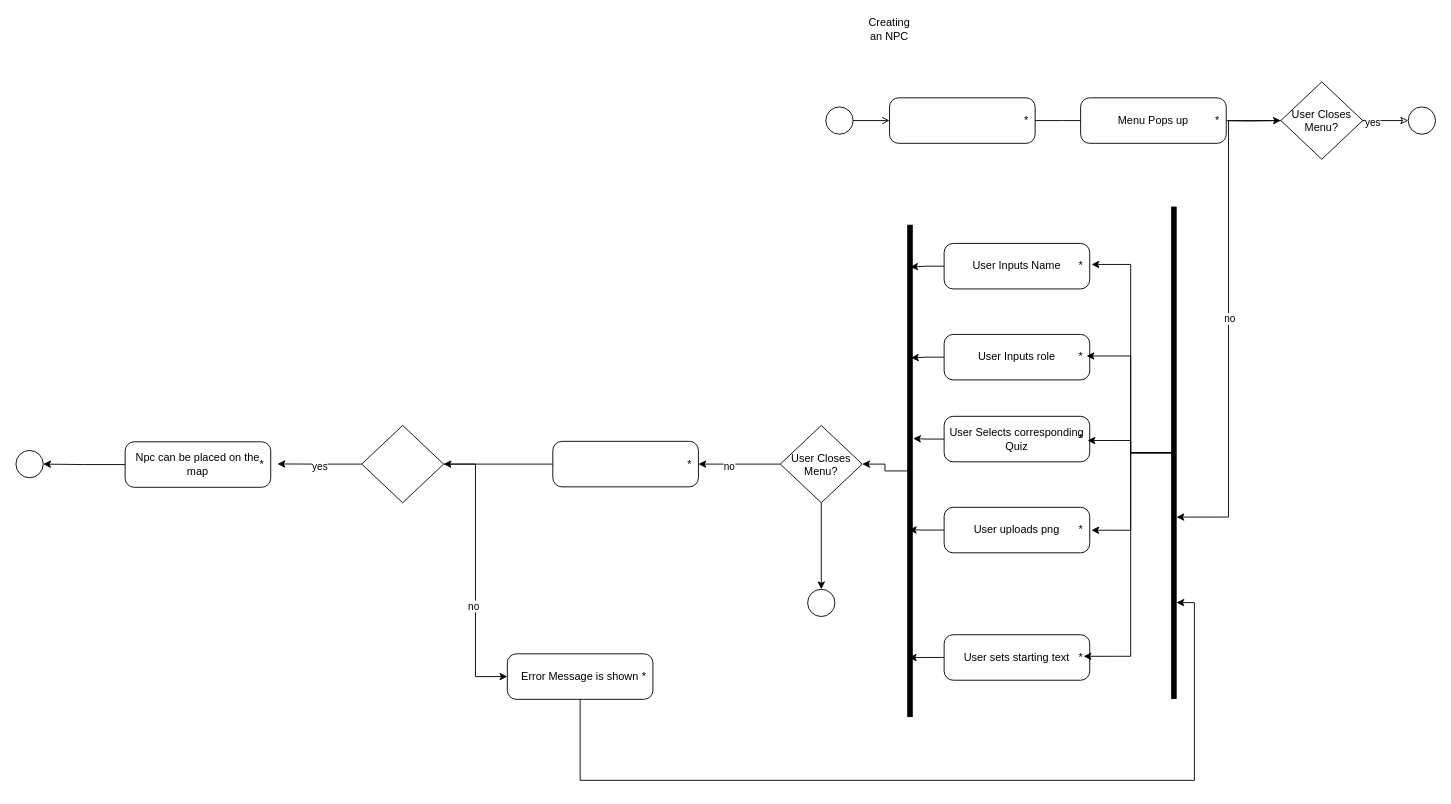
The diagram is 1451 pixels wide and 804 high, and some of its shapes have lost their labels. Here are the shapes that lost their labels. From the top down, the centre of each, then its label:
At (962,120): "User Interacts with the creator NPC".
At (402,464): "all data was filled correctly".
At (625,463): "User selects place NPC".
